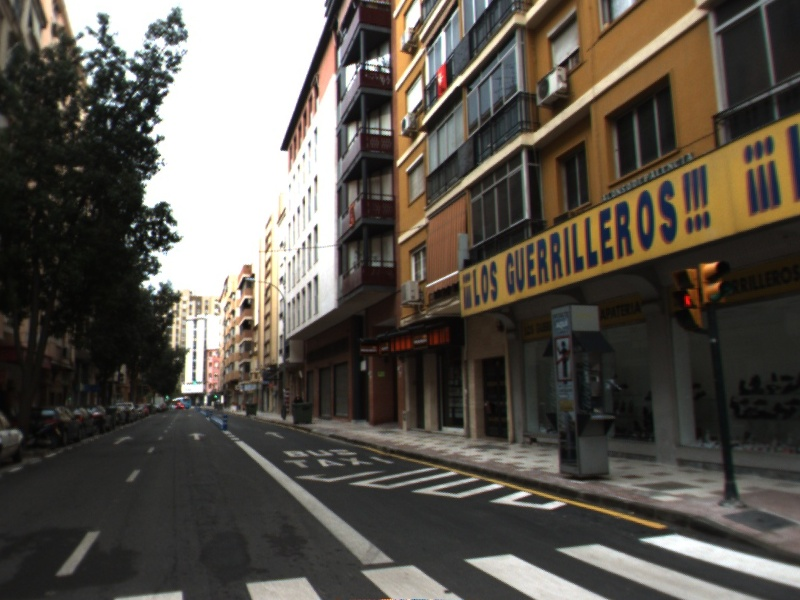STRAIGHT: (111, 433, 136, 447), (262, 429, 287, 441), (185, 430, 208, 442)
